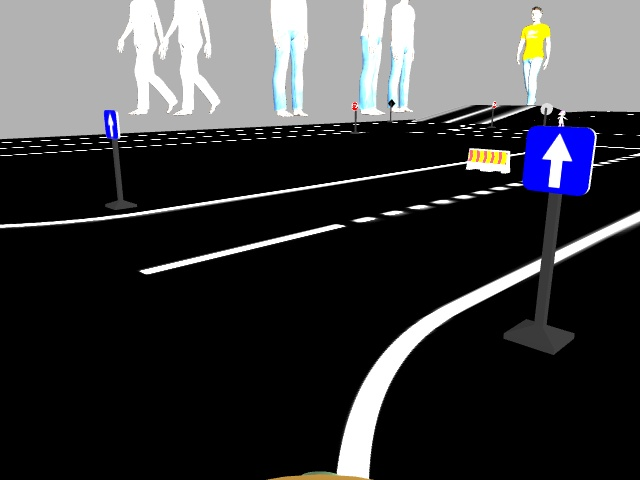ClosedRoadStand: (468, 146, 509, 173)
OneWay: (528, 127, 589, 193), (101, 108, 119, 140)
